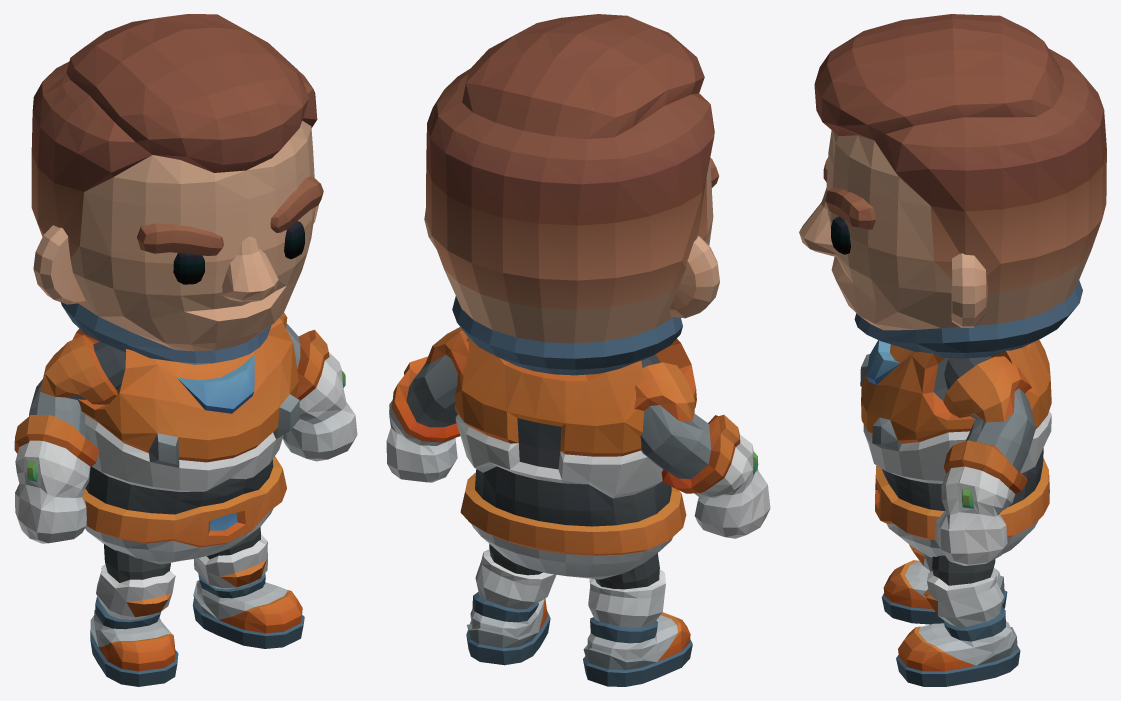
File: space-ranger.glb
3 views of the same model, side by side, from view 1: azimuth 30°, elevation 25°; view 2: azimuth 150°, elevation 25°; view 3: azimuth 270°, elevation 25° (orthographic). The views are drawn at different scales.
Visible parts, largest first — view 1: space-ranger; view 2: space-ranger; view 3: space-ranger.
Part boxes in pixels (x1,y1,x2,y2): space-ranger: (14,14,357,686); space-ranger: (386,14,770,686); space-ranger: (799,14,1106,686).
Size of the model in its own units: 0.5854 by 1 by 0.4586.
